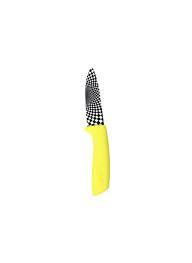Knife: (83, 66, 110, 195)
